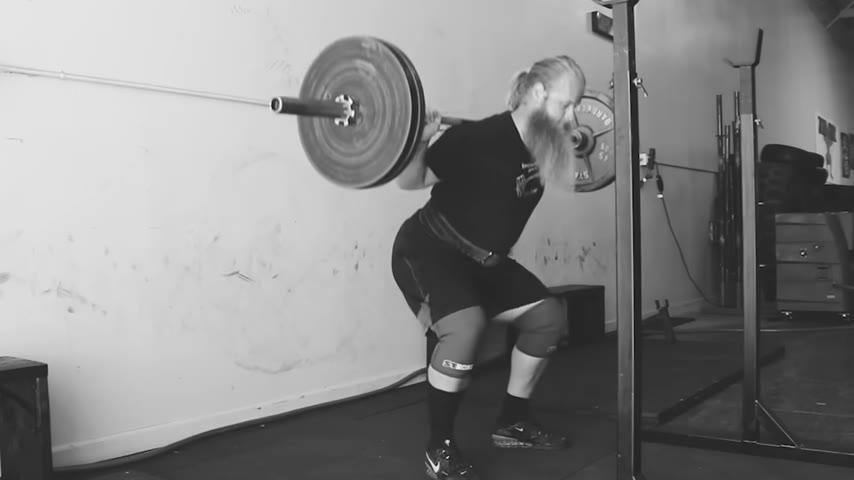barbell_plate_side: (287, 32, 382, 200), (538, 45, 622, 196)
